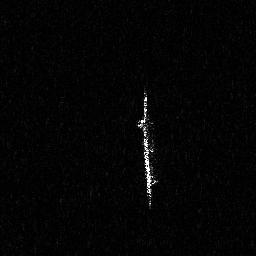ship: (134, 85, 161, 210)
